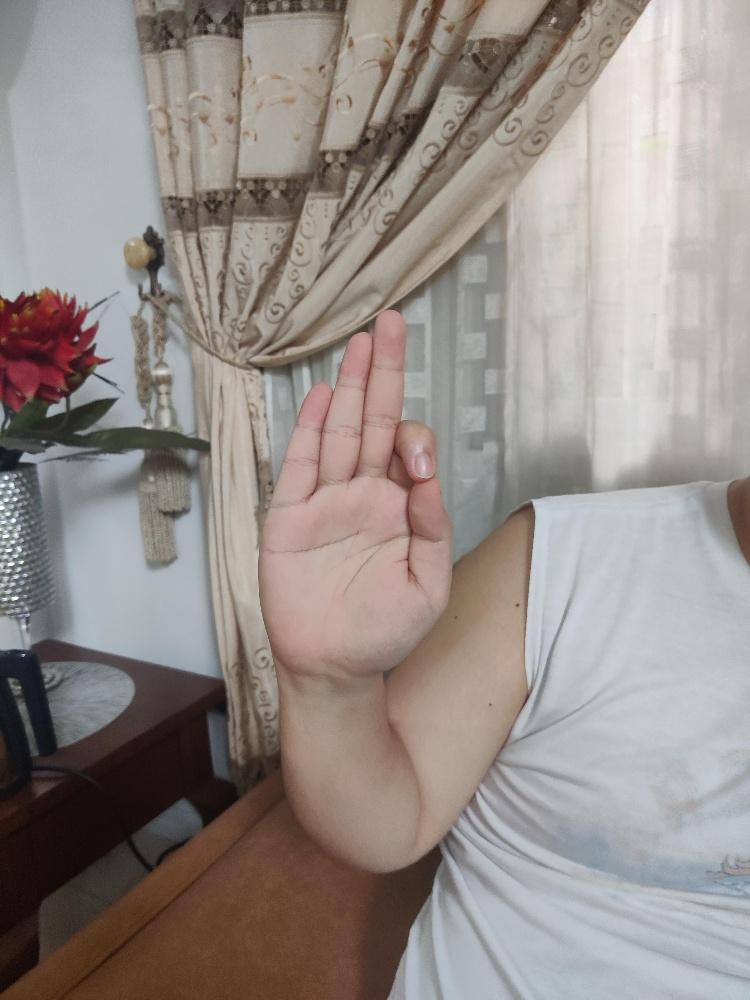f: (256, 305, 454, 685)
